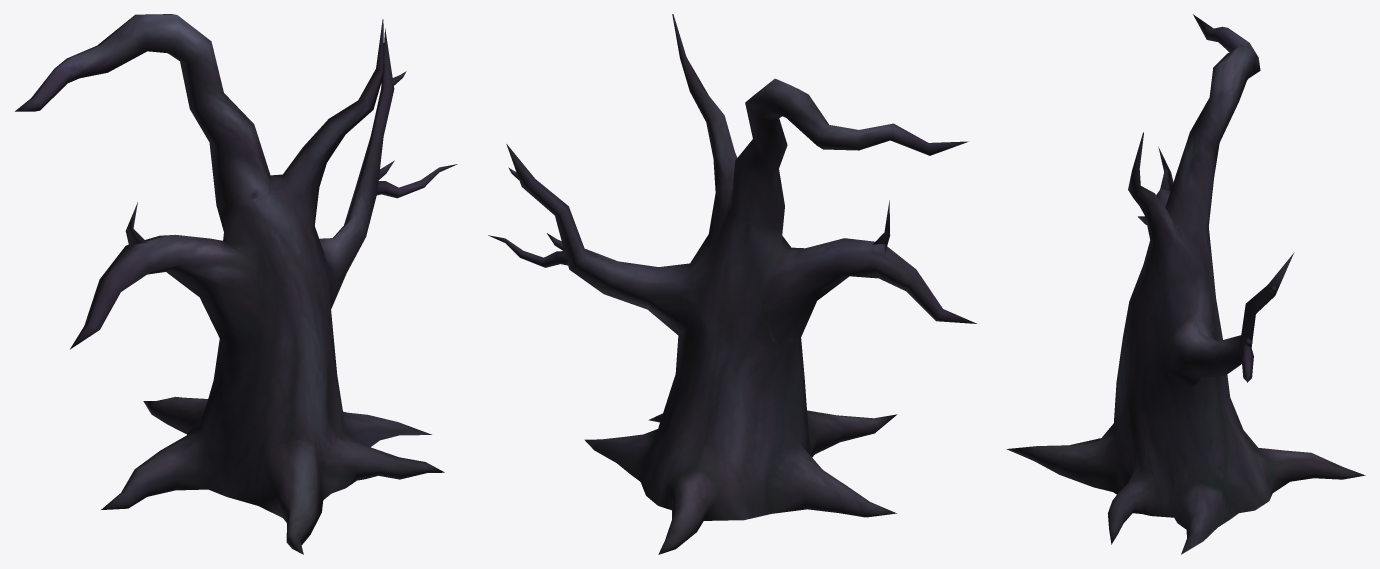
The model's file is Area07_27.fbx.
The picture shows the model from 3 angles, left to right: view 1: azimuth 30°, elevation 25°; view 2: azimuth 150°, elevation 25°; view 3: azimuth 270°, elevation 25°; orthographic projection. The views are drawn at different scales.
Visible parts, largest first — view 1: Area07_27; view 2: Area07_27; view 3: Area07_27.
Boxes of the visible parts, left/top/right/bottom form: Area07_27: left=15, top=14, right=457, bottom=554; Area07_27: left=488, top=14, right=976, bottom=554; Area07_27: left=1006, top=14, right=1365, bottom=554.
Bounding box in the file's own units: 548 × 508 × 411.
